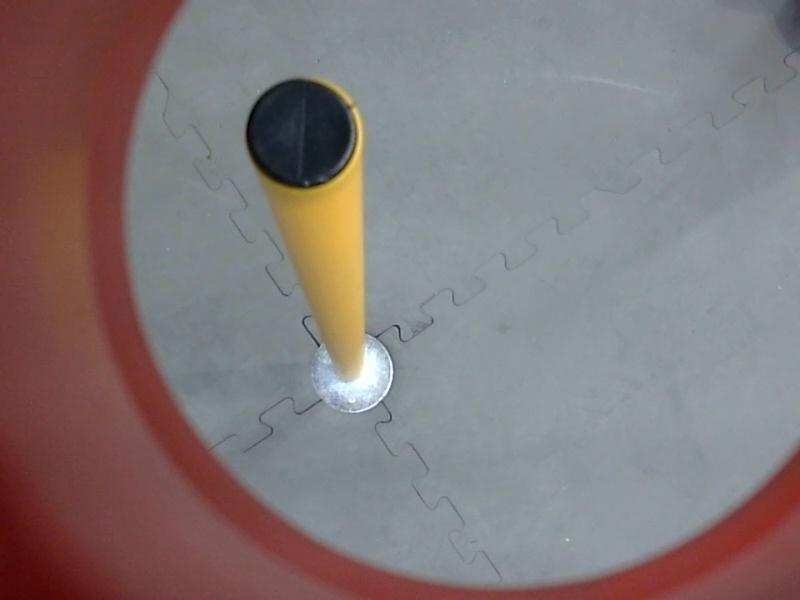tip: (238, 67, 364, 199)
